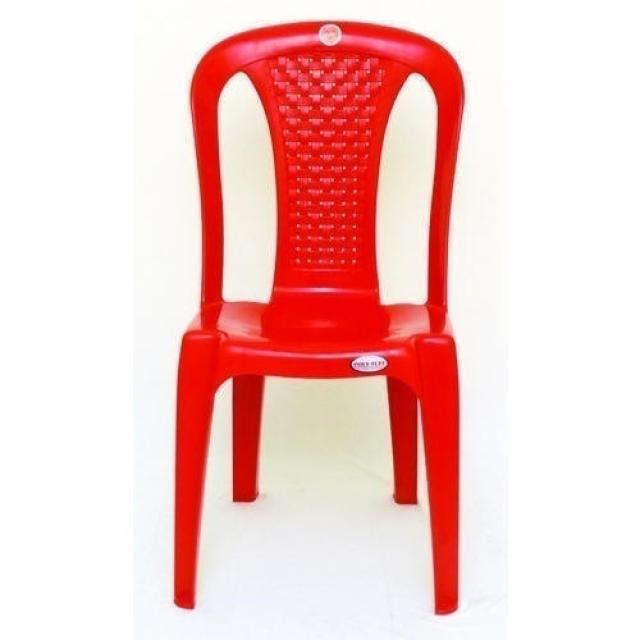chair: (170, 18, 467, 618)
